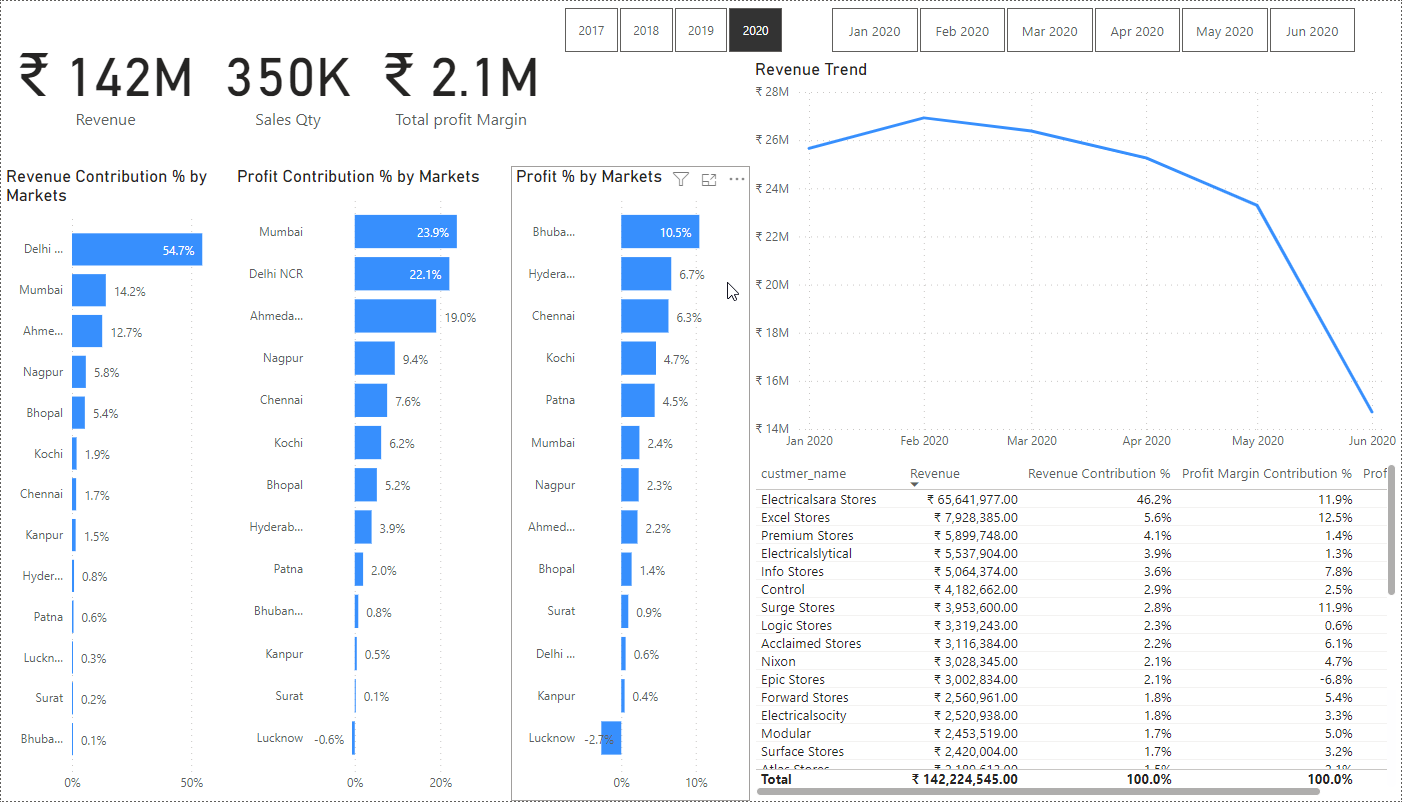

What the dashboard file says about the page in this screenshot:
{"tool":"powerbi","page":{"name":"Profit Analysis","canvas":[1400,800],"ordinal":1},"visuals":[{"type":"card","fields":{"Values":["BaseMeasures.Revenue"]},"box":[0,0,209,158],"z":0},{"type":"card","fields":{"Values":["BaseMeasures.Sales Qty"]},"box":[209,0,156,158],"z":1000},{"type":"barChart","title":"Profit % by Markets","fields":{"Category":["sales markets.markets_name"],"Y":["BaseMeasures.Profit Margin %"]},"box":[510,165,239,635],"z":2000},{"type":"barChart","title":"Profit Contribution % by Markets","fields":{"Category":["sales markets.markets_name"],"Y":["BaseMeasures.Profit Margin Contribution %"]},"box":[231,165,268,635],"z":3000},{"type":"slicer","fields":{"Values":["sales date.year"]},"box":[538,0,267,58],"z":4000},{"type":"slicer","fields":{"Values":["sales date.cy_date"]},"box":[805,0,573,58],"z":5000},{"type":"tableEx","fields":{"Values":["sales customers.custmer_name","BaseMeasures.Revenue","BaseMeasures.Revenue Contribution %","BaseMeasures.Profit Margin Contribution %","BaseMeasures.Profit Margin %"]},"box":[749,458,651,342],"z":6000},{"type":"lineChart","title":"Revenue Trend","fields":{"Y":["BaseMeasures.Revenue"],"Category":["sales date.cy_date.Variation.Date Hierarchy.Year","sales date.cy_date.Variation.Date Hierarchy.Quarter","sales date.cy_date.Variation.Date Hierarchy.Month","sales date.cy_date.Variation.Date Hierarchy.Day"]},"box":[749,58,651,400],"z":8000},{"type":"card","fields":{"Values":["BaseMeasures.Total profit Margin"]},"box":[365,0,190,158],"z":9000},{"type":"barChart","title":"Revenue Contribution % by Markets","fields":{"Category":["sales markets.markets_name"],"Y":["BaseMeasures.Revenue Contribution %"]},"box":[0,165,231,635],"z":9001}]}

Visuals, with their boxes in screenshot pixels (x1, y1, x2, y2), scaled from the page's 1400x800 canvas onto the 1402x802 screenshot:
card - BaseMeasures.Revenue: [0, 0, 209, 158]
card - BaseMeasures.Sales Qty: [209, 0, 366, 158]
"Profit % by Markets" barChart: [511, 165, 750, 801]
"Profit Contribution % by Markets" barChart: [231, 165, 500, 801]
slicer - sales date.year: [539, 0, 806, 58]
slicer - sales date.cy_date: [806, 0, 1380, 58]
tableEx - sales customers.custmer_name x BaseMeasures.Revenue: [750, 459, 1401, 801]
"Revenue Trend" lineChart: [750, 58, 1401, 459]
card - BaseMeasures.Total profit Margin: [366, 0, 556, 158]
"Revenue Contribution % by Markets" barChart: [0, 165, 231, 801]
